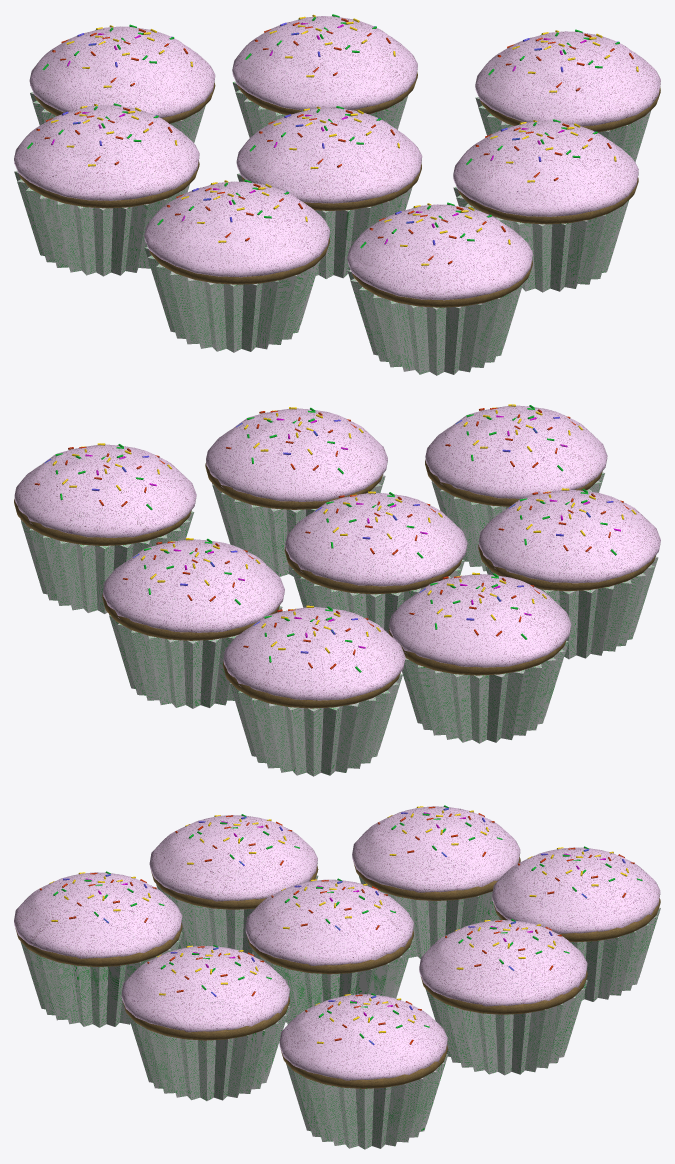
The picture shows the model from 3 angles, top to bottom: view 1: azimuth 30°, elevation 25°; view 2: azimuth 150°, elevation 25°; view 3: azimuth 270°, elevation 25°; orthographic projection. The views are drawn at different scales.
Parts seen in each view (by area): view 1: group_1 (×8), group_10 (×8), group_7 (×7); view 2: group_1 (×8), group_10 (×8), group_7 (×8); view 3: group_1 (×8), group_10 (×8), group_7 (×8).
Part boxes in pixels (box(x1,y1,x2,y2)): group_1 (×8): box(14, 16, 660, 300); group_10 (×8): box(14, 81, 651, 375); group_7 (×7): box(19, 72, 660, 307); group_1 (×8): box(14, 405, 660, 700); group_10 (×8): box(20, 472, 658, 776); group_7 (×8): box(14, 460, 655, 708); group_1 (×8): box(14, 806, 660, 1080); group_10 (×8): box(20, 875, 660, 1149); group_7 (×8): box(15, 857, 660, 1088).
Bounding box in the file's own units: 21.62 × 22.76 × 4.66.
